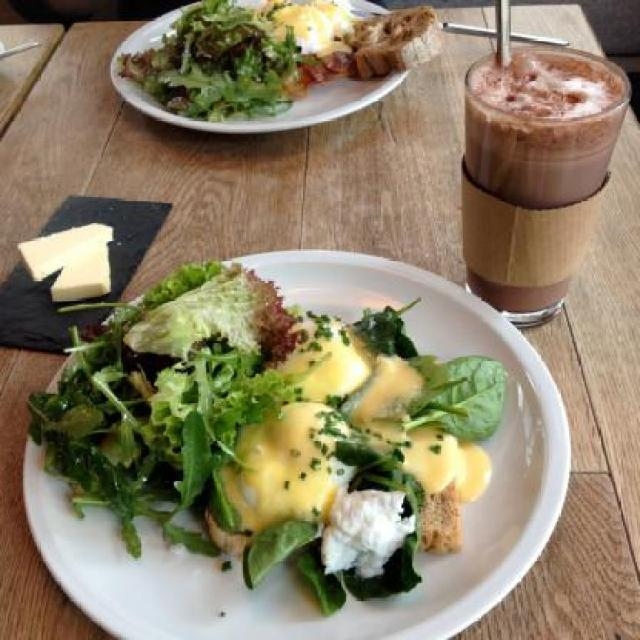Cheese: (318, 484, 417, 578), (13, 218, 112, 284), (49, 242, 114, 304)
